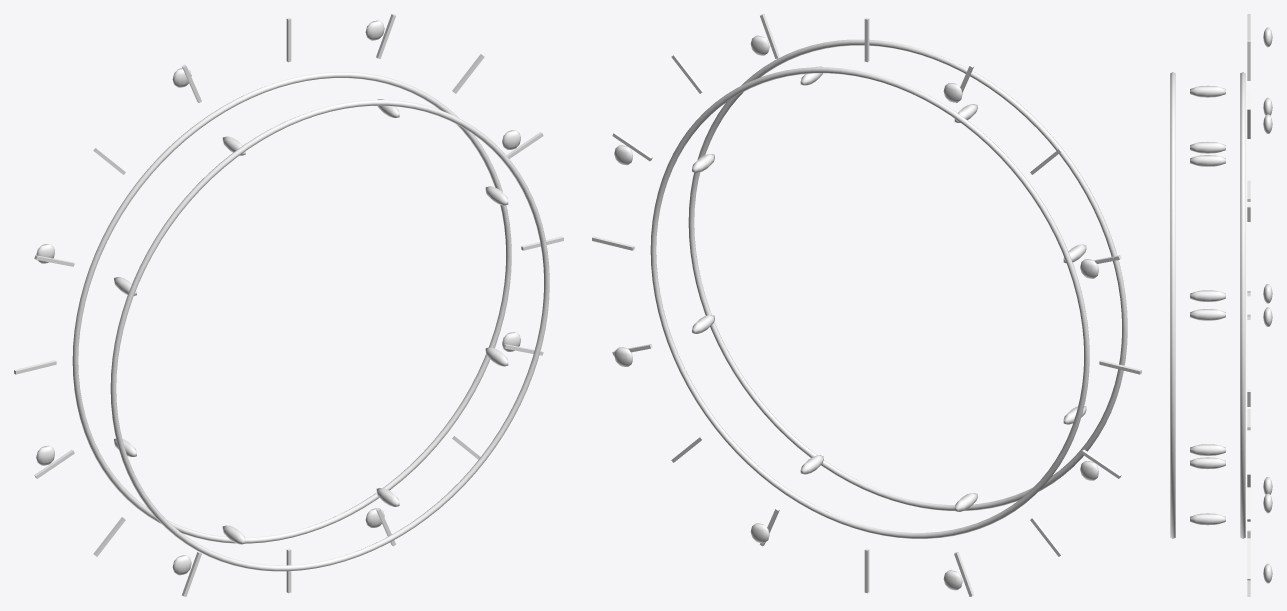
Rendered from GatePortalGlow.fbx.
The picture shows the model from 3 angles, left to right: view 1: azimuth 30°, elevation 25°; view 2: azimuth 150°, elevation 25°; view 3: azimuth 270°, elevation 25°; orthographic projection. The views are drawn at different scales.
Parts seen in each view (by area): view 1: GatePortalGlow; view 2: GatePortalGlow; view 3: GatePortalGlow.
Boxes of the visible parts, left/top/right/bottom form: GatePortalGlow: left=14, top=14, right=563, bottom=596; GatePortalGlow: left=592, top=14, right=1141, bottom=596; GatePortalGlow: left=1170, top=14, right=1272, bottom=596.
Bounding box in the file's own units: 17.5 × 17.5 × 3.07.
1 material, 1 textured.
